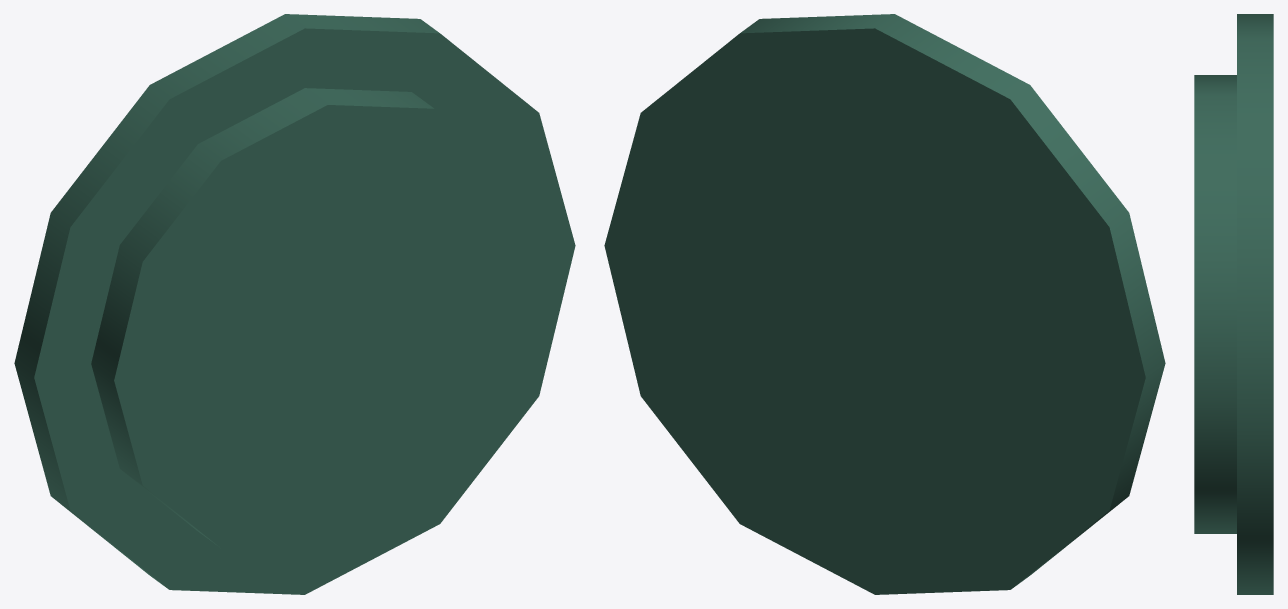
Rendered from hangar2_flange.obj.
The picture shows the model from 3 angles, left to right: view 1: azimuth 30°, elevation 25°; view 2: azimuth 150°, elevation 25°; view 3: azimuth 270°, elevation 25°; orthographic projection. The views are drawn at different scales.
Visible parts, largest first — view 1: hangar2_flange; view 2: hangar2_flange; view 3: hangar2_flange.
Boxes of the visible parts, <box> form: hangar2_flange: <box>14,14,575,594</box>; hangar2_flange: <box>604,14,1165,594</box>; hangar2_flange: <box>1194,14,1273,594</box>.
Size of the model in its own units: 1.9 by 1.9 by 0.2595.
